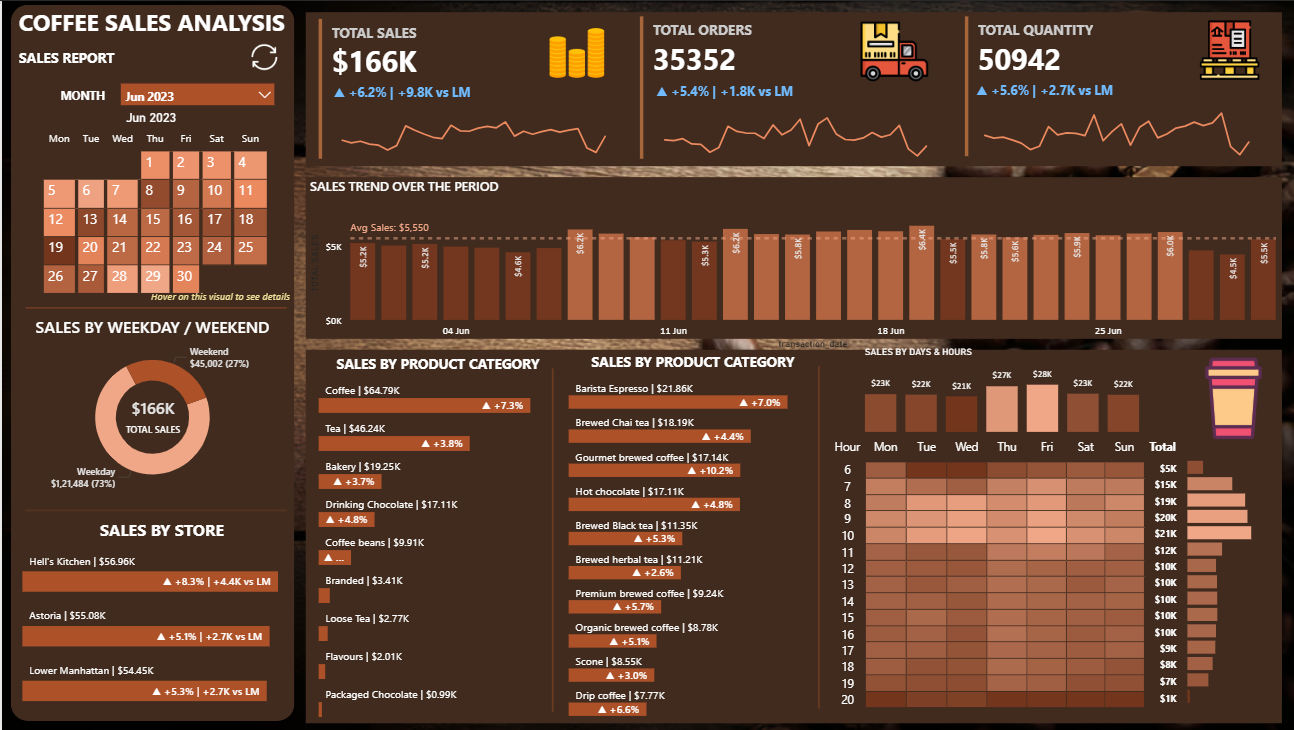

Layout of this report page (visuals, bound fields, positions):
{"tool":"powerbi","page":{"name":"SALES REPORT","canvas":[1500,850],"ordinal":0},"visuals":[{"type":"shape","box":[10.1,4.3,328.8,830],"z":0},{"type":"shape","box":[352,13,1131.3,178.2],"z":1000},{"type":"textbox","box":[14.5,1.4,328.8,52.1],"z":2000},{"type":"slicer","fields":{"Values":["Date Table.MONTH YEAR"]},"box":[131.8,89.8,189.8,40.6],"z":3000},{"type":"cardVisual","fields":{"Data":["Transactions.TOTAL ORDERS"]},"box":[734.2,12.9,347.7,175.3],"z":4000,"group":"g2"},{"type":"cardVisual","fields":{"Data":["Transactions.TOTAL QUANTITY"]},"box":[1111,13,358.4,172.9],"z":4000,"group":"g3"},{"type":"group","id":"g1","title":"Group 1","box":[362.1,15.9,351.8,173.9],"z":4000},{"type":"cardVisual","fields":{"Data":["Transactions.TOTAL SALES"]},"box":[362.1,15.9,337.5,172],"z":4000,"group":"g1"},{"type":"group","id":"g2","title":"Group 1","box":[734.2,12.9,351.4,175.3],"z":5000},{"type":"group","id":"g3","title":"Group 1","box":[1111,13,358.4,173.8],"z":6000},{"type":"lineChart","fields":{"Category":["Date Table.Date.Variation.Date Hierarchy.Year","Date Table.Date.Variation.Date Hierarchy.Quarter","Date Table.Date.Variation.Date Hierarchy.Month","Date Table.Date.Variation.Date Hierarchy.Day"],"Y":["Transactions.TOTAL QUANTITY"]},"box":[1124,92.6,336.1,94.2],"z":6000,"group":"g3"},{"type":"lineChart","fields":{"Category":["Date Table.Date.Variation.Date Hierarchy.Year","Date Table.Date.Variation.Date Hierarchy.Quarter","Date Table.Date.Variation.Date Hierarchy.Month","Date Table.Date.Variation.Date Hierarchy.Day"],"Y":["Transactions.TOTAL ORDERS"]},"box":[752.4,94.2,333.2,92.7],"z":6000,"group":"g2"},{"type":"lineChart","fields":{"Y":["Transactions.TOTAL SALES"],"Category":["Date Table.Date.Variation.Date Hierarchy.Year","Date Table.Date.Variation.Date Hierarchy.Quarter","Date Table.Date.Variation.Date Hierarchy.Month","Date Table.Date.Variation.Date Hierarchy.Day"]},"box":[379.3,95.7,334.6,94.2],"z":6000,"group":"g1"},{"type":"pivotTable","fields":{"Rows":["Date Table.WEEK NO."],"Columns":["Date Table.DAY NAME"],"Values":["Min(Date Table.DAY NUMBER)"]},"box":[26.1,146.3,295.5,202.8],"z":7000},{"type":"card","fields":{"Values":["Min(Date Table.MONTH YEAR)"]},"box":[131.8,121.7,82.6,30.4],"z":8000},{"type":"card","fields":{"Values":["Transactions.FOOT NOTE"]},"box":[163.7,328.8,179.6,31.9],"z":9000},{"type":"shape","box":[27.5,340.4,302.7,30.4],"z":10000},{"type":"donutChart","title":"SALES BY WEEKDAY / WEEKEND","fields":{"Category":["Date Table.WEEKDAY / WEEKEND"],"Y":["Transactions.TOTAL SALES"]},"box":[20.3,365,308.5,210],"z":11000},{"type":"card","fields":{"Values":["Transactions.TOTAL SALES"]},"box":[137.6,454.8,75.3,50.7],"z":12000},{"type":"clusteredBarChart","title":"SALES BY STORE","fields":{"Category":["Transactions.store_location"],"Y":["Transactions.PLACEHOLDER","Transactions.TOTAL SALES"]},"box":[18.8,599.7,333.2,220.2],"z":13000},{"type":"shape","box":[27.5,575.1,302.7,30.4],"z":14000},{"type":"shape","box":[352,204.2,1131.3,186.9],"z":15000},{"type":"columnChart","title":"SALES TREND OVER THE PERIOD","fields":{"Category":["Transactions.transaction_date"],"Y":["Transactions.TOTAL SALES"]},"box":[352,204.2,1131.3,204.2],"z":16000},{"type":"shape","box":[352,404.1,1131.3,433.1],"z":17000},{"type":"clusteredBarChart","title":"SALES BY PRODUCT CATEGORY","fields":{"Category":["Transactions.product_category"],"Y":["Transactions.PLACEHOLDER","Transactions.TOTAL SALES"]},"box":[361.5,409.2,285.9,427.3],"z":18000},{"type":"shape","box":[613,425.6,50.9,397.7],"z":19000},{"type":"clusteredBarChart","title":"SALES BY PRODUCT CATEGORY","fields":{"Category":["Transactions.product_type"],"Y":["Transactions.PLACEHOLDER","Transactions.TOTAL SALES"]},"box":[652.4,407.5,297.4,427.3],"z":20000},{"type":"shape","box":[921.3,423,50.7,396.9],"z":21000},{"type":"pivotTable","fields":{"Rows":["Transactions.HOURS"],"Columns":["Date Table.DAY NAME"],"Values":["Transactions.TOTAL SALES"]},"box":[954.6,502.6,427.3,343.3],"z":22000},{"type":"barChart","fields":{"Category":["Transactions.Hour"],"Y":["Transactions.TOTAL SALES"]},"box":[1368.9,520,114.4,298.4],"z":23000},{"type":"columnChart","title":"SALES BY DAYS & HOURS","fields":{"Y":["Transactions.TOTAL SALES"],"Category":["Date Table.DAY NAME"]},"box":[999.5,404.1,328.8,105.7],"z":24000},{"type":"textbox","box":[53.6,95.6,79.7,36.2],"z":25000},{"type":"textbox","box":[14.5,49.3,136.2,42],"z":26000},{"type":"image","box":[1383.4,14.5,78.2,85.5],"z":26002},{"type":"image","box":[618.5,17.4,95.6,85.5],"z":26003},{"type":"image","box":[1370.3,408.5,113,104.3],"z":26004},{"type":"image","box":[982.1,14.5,104.3,88.4],"z":26005},{"type":"actionButton","box":[286.8,47.8,34.8,34.8],"z":26006}]}

Visuals, with their boxes in screenshot pixels (x1, y1, x2, y2), scaled from the page's 1500x850 canvas onto the 1294x730 screenshot:
shape: (x1=9, y1=4, x2=292, y2=717)
shape: (x1=304, y1=11, x2=1280, y2=164)
textbox: (x1=13, y1=1, x2=296, y2=46)
slicer - Date Table.MONTH YEAR: (x1=114, y1=77, x2=277, y2=112)
cardVisual - Transactions.TOTAL ORDERS: (x1=633, y1=11, x2=933, y2=162)
cardVisual - Transactions.TOTAL QUANTITY: (x1=958, y1=11, x2=1268, y2=160)
"Group 1" group: (x1=312, y1=14, x2=616, y2=163)
cardVisual - Transactions.TOTAL SALES: (x1=312, y1=14, x2=604, y2=161)
"Group 1" group: (x1=633, y1=11, x2=937, y2=162)
"Group 1" group: (x1=958, y1=11, x2=1268, y2=160)
lineChart - Date Table.Date.Variation.Date Hierarchy.Year x Date Table.Date.Variation.Date Hierarchy.Quarter: (x1=970, y1=80, x2=1260, y2=160)
lineChart - Date Table.Date.Variation.Date Hierarchy.Year x Date Table.Date.Variation.Date Hierarchy.Quarter: (x1=649, y1=81, x2=937, y2=161)
lineChart - Transactions.TOTAL SALES x Date Table.Date.Variation.Date Hierarchy.Year: (x1=327, y1=82, x2=616, y2=163)
pivotTable - Date Table.WEEK NO. x Date Table.DAY NAME: (x1=23, y1=126, x2=277, y2=300)
card - Min(Date Table.MONTH YEAR): (x1=114, y1=105, x2=185, y2=131)
card - Transactions.FOOT NOTE: (x1=141, y1=282, x2=296, y2=310)
shape: (x1=24, y1=292, x2=285, y2=318)
"SALES BY WEEKDAY / WEEKEND" donutChart: (x1=18, y1=313, x2=284, y2=494)
card - Transactions.TOTAL SALES: (x1=119, y1=391, x2=184, y2=434)
"SALES BY STORE" clusteredBarChart: (x1=16, y1=515, x2=304, y2=704)
shape: (x1=24, y1=494, x2=285, y2=520)
shape: (x1=304, y1=175, x2=1280, y2=336)
"SALES TREND OVER THE PERIOD" columnChart: (x1=304, y1=175, x2=1280, y2=351)
shape: (x1=304, y1=347, x2=1280, y2=719)
"SALES BY PRODUCT CATEGORY" clusteredBarChart: (x1=312, y1=351, x2=558, y2=718)
shape: (x1=529, y1=366, x2=573, y2=707)
"SALES BY PRODUCT CATEGORY" clusteredBarChart: (x1=563, y1=350, x2=819, y2=717)
shape: (x1=795, y1=363, x2=839, y2=704)
pivotTable - Transactions.HOURS x Date Table.DAY NAME: (x1=824, y1=432, x2=1192, y2=726)
barChart - Transactions.Hour x Transactions.TOTAL SALES: (x1=1181, y1=447, x2=1280, y2=703)
"SALES BY DAYS & HOURS" columnChart: (x1=862, y1=347, x2=1146, y2=438)
textbox: (x1=46, y1=82, x2=115, y2=113)
textbox: (x1=13, y1=42, x2=130, y2=78)
image: (x1=1193, y1=12, x2=1261, y2=86)
image: (x1=534, y1=15, x2=616, y2=88)
image: (x1=1182, y1=351, x2=1280, y2=440)
image: (x1=847, y1=12, x2=937, y2=88)
actionButton: (x1=247, y1=41, x2=277, y2=71)
